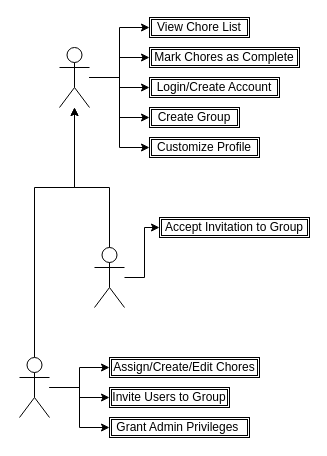
Image size: 327x456. Some labels were removed from this diagram. The box of each missing label's shape, as (x1, y1, x2, y2) in pixels:
Admin: (18, 356, 50, 418)
Household Member: (58, 46, 90, 108)
Standard: (94, 246, 124, 308)
